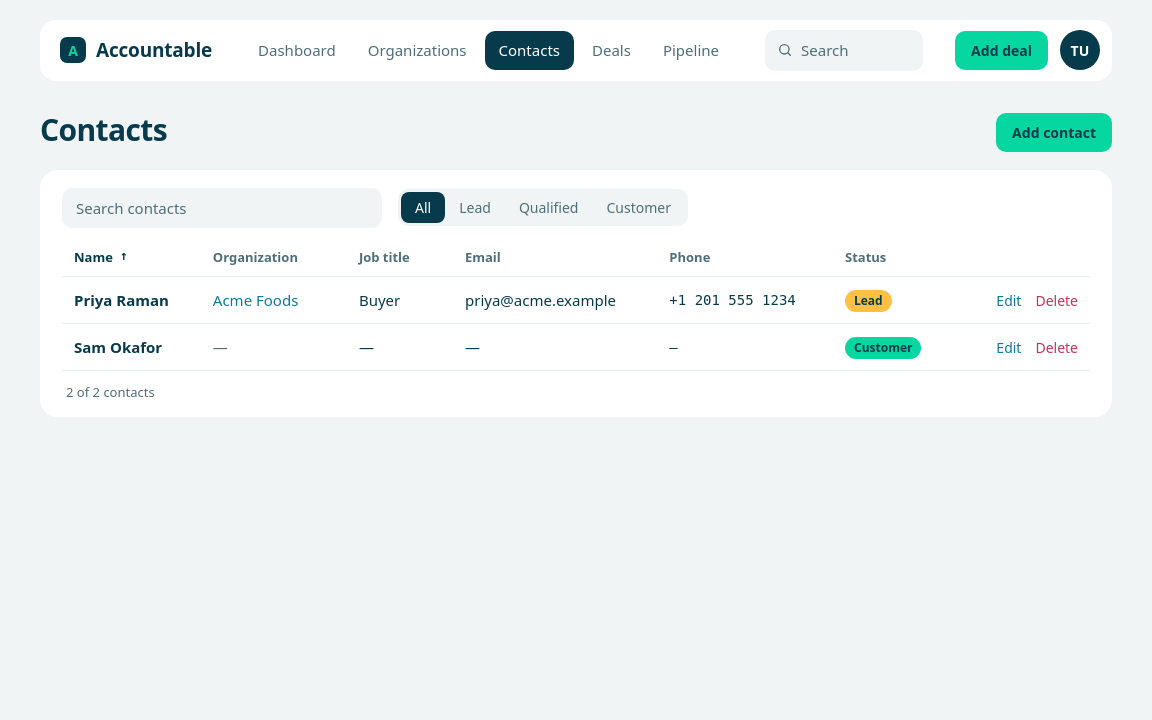
Scenario: deleting a contact says what happens to its records
Later steps or results of the test are not shown.
Expected: the link "Priya Raman" is shown, [74,290,169,310]
Click the button with aria-label "Delete Priya Raman": (1057, 300) [1035,290,1078,311]
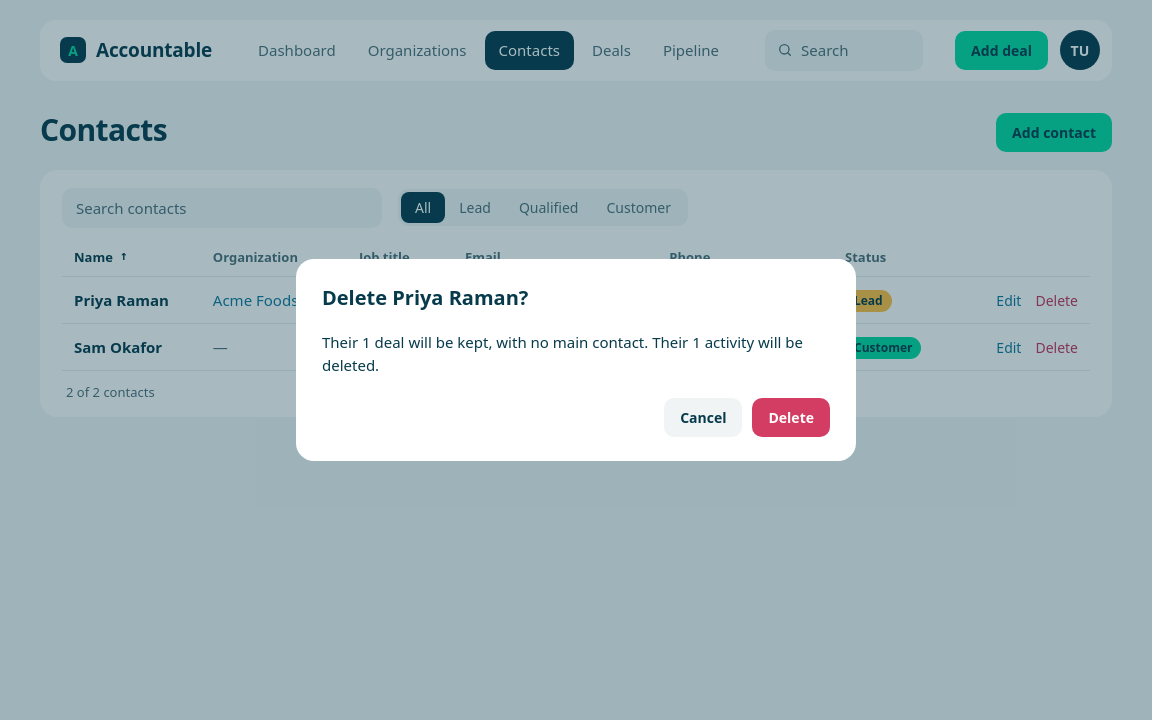
Now the text "Their 1 deal will be kept, with no main contact. Their 1 activity will be deleted." is shown, box [322,332,803,374]
